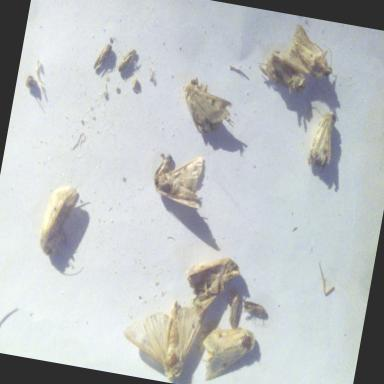abw: (173, 74, 242, 143), (268, 18, 343, 81), (191, 319, 262, 384), (149, 146, 212, 214), (34, 178, 86, 260), (180, 250, 244, 308), (254, 50, 313, 98), (302, 108, 343, 174)
